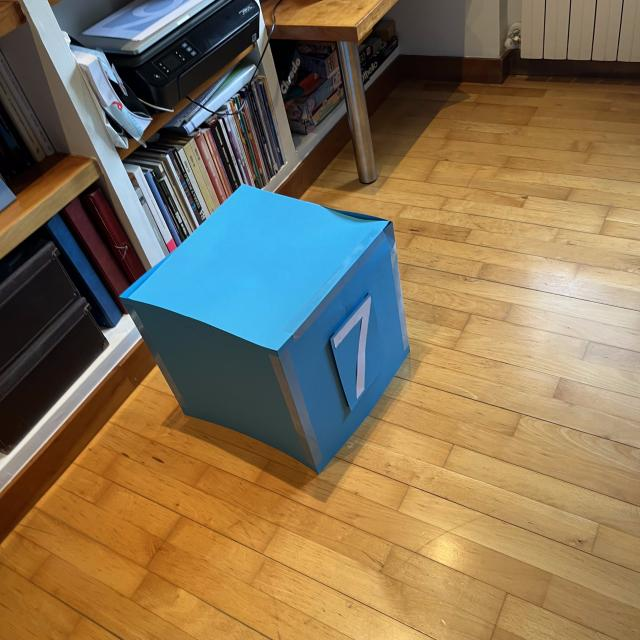box: (117, 180, 414, 476)
